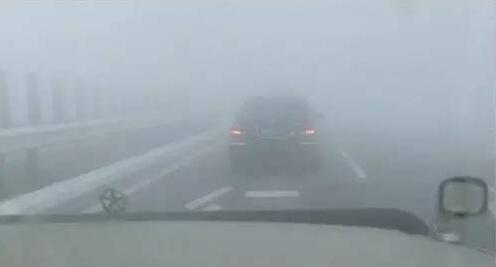car: (227, 94, 325, 176)
